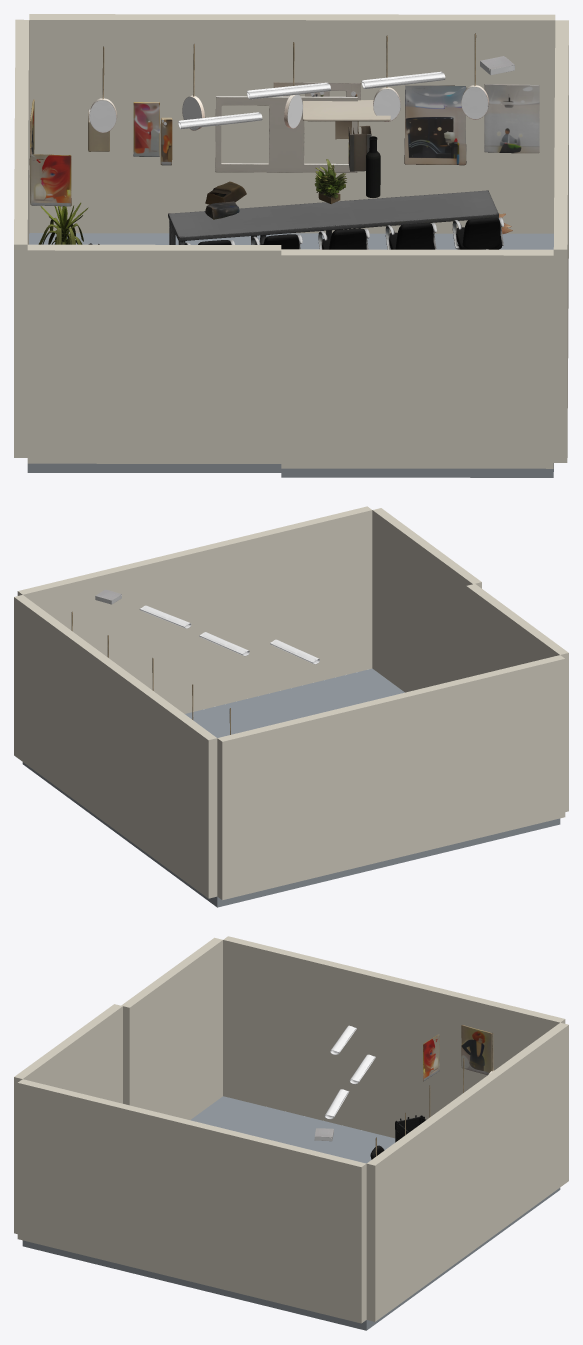
The model's file is stage3.glb.
The picture shows the model from 3 angles, top to bottom: view 1: azimuth 30°, elevation 25°; view 2: azimuth 150°, elevation 25°; view 3: azimuth 270°, elevation 25°; orthographic projection. The views are drawn at different scales.
Parts seen in each view (by area): view 1: Wall_01, geometry_0.008, Floor, geometry_0.002, geometry_0.017, geometry_0.021 (×5), geometry_0.006, geometry_0.005 (×3), geometry_0.014, geometry_0.004, geometry_0.003, geometry_0.019 (+7 smaller); view 2: Wall_01, Floor, geometry_0.014; view 3: Wall_01, Floor, geometry_0.009, geometry_0.014, geometry_0.004.
Boxes of the visible parts, x1,y1,x2,y2 form: Wall_01: [14, 14, 568, 468]; geometry_0.008: [168, 190, 498, 244]; Floor: [27, 233, 553, 477]; geometry_0.002: [404, 85, 466, 165]; geometry_0.017: [215, 96, 357, 172]; geometry_0.021 (×5): [89, 33, 489, 132]; geometry_0.006: [484, 84, 539, 153]; geometry_0.005 (×3): [318, 217, 504, 249]; geometry_0.014: [178, 71, 445, 129]; geometry_0.004: [29, 154, 71, 206]; geometry_0.003: [302, 100, 390, 139]; geometry_0.019: [133, 102, 159, 156]; Wall_01: [14, 506, 568, 900]; Floor: [22, 668, 560, 907]; geometry_0.014: [139, 605, 319, 664]; Wall_01: [14, 936, 568, 1323]; Floor: [22, 1096, 560, 1330]; geometry_0.009: [461, 1025, 492, 1074]; geometry_0.014: [324, 1025, 375, 1119]; geometry_0.004: [423, 1034, 439, 1081].
Size of the model in its own units: 13.64 by 4.61 by 13.85.
25 materials, 23 textured.
